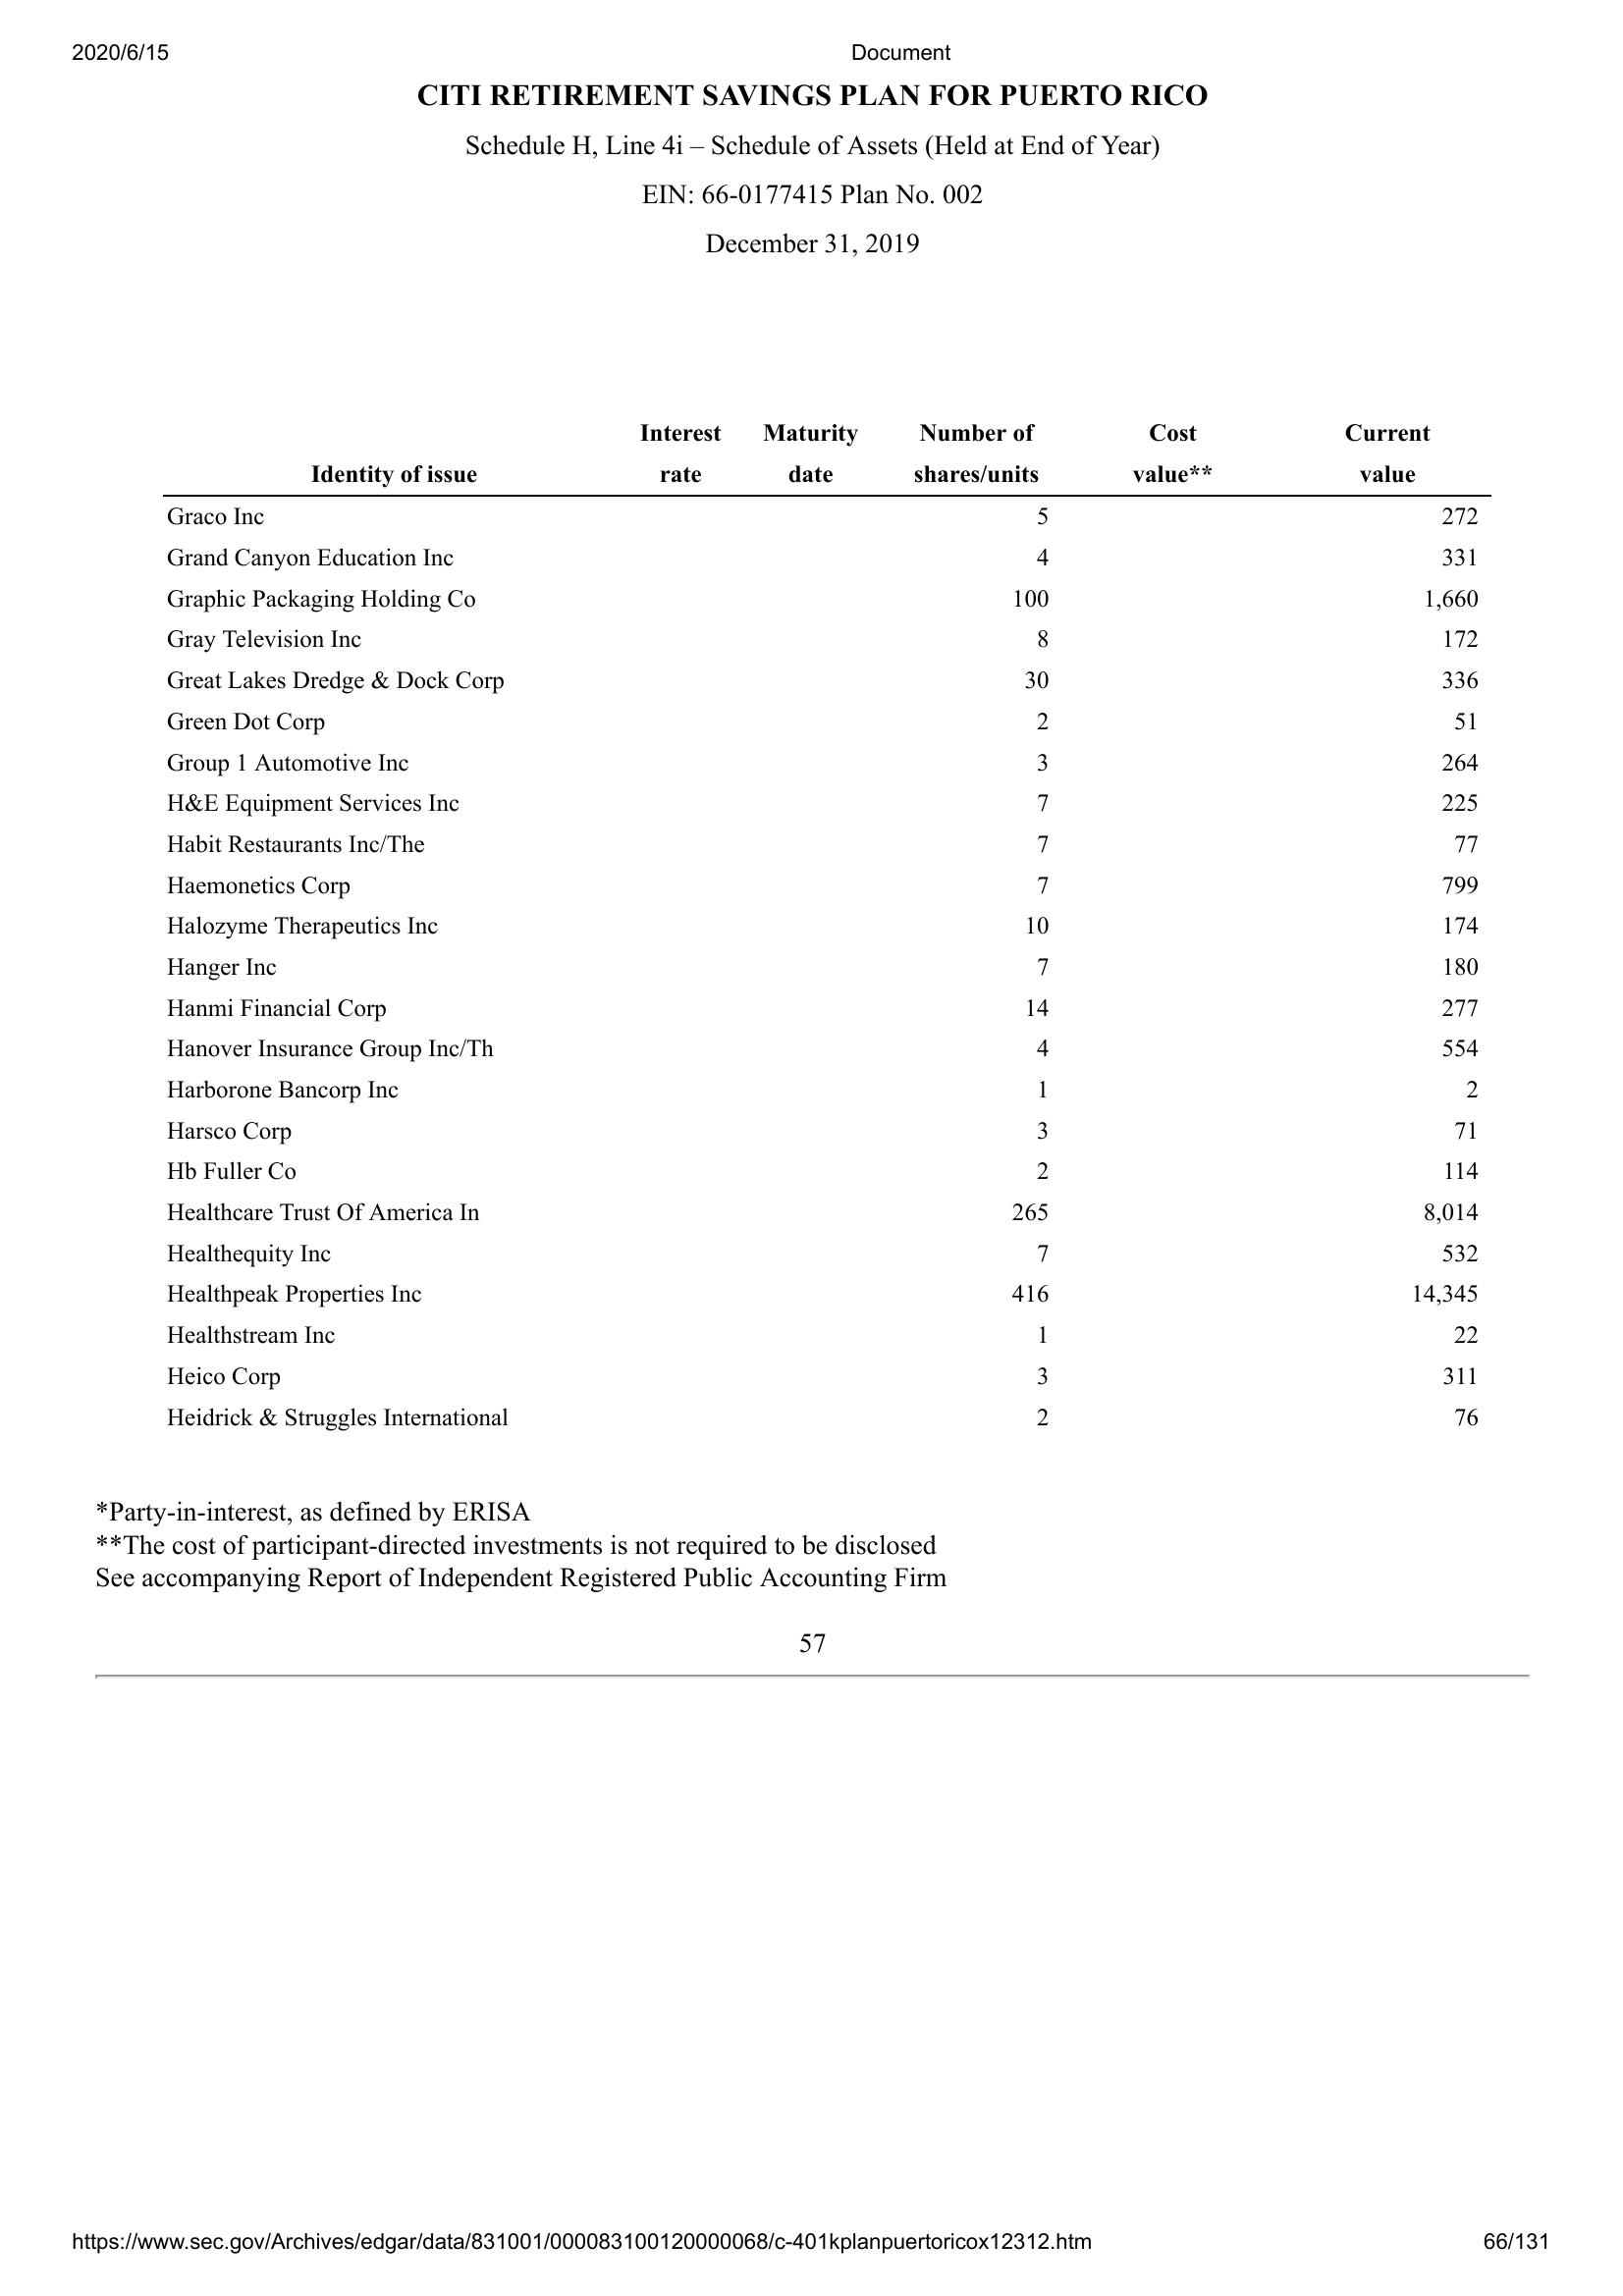table: (155, 418, 1493, 1436)
